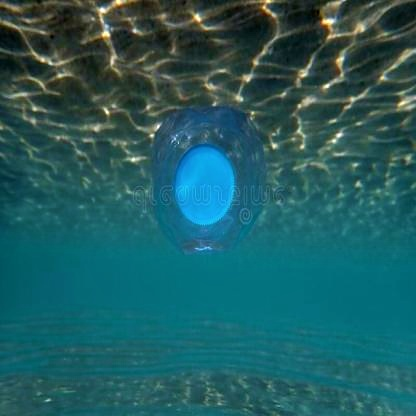pbottle: (141, 96, 276, 266)
